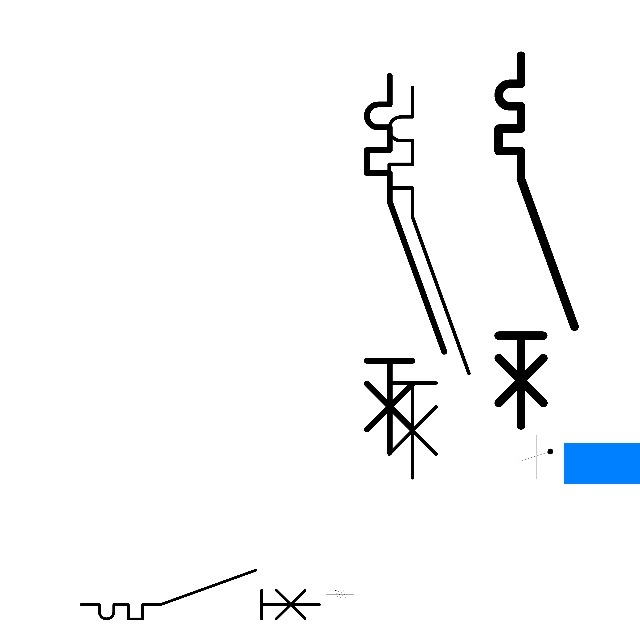interruptor_termomagnetico: (379, 77, 479, 488), (357, 66, 454, 462), (489, 46, 584, 435), (75, 564, 326, 625)
